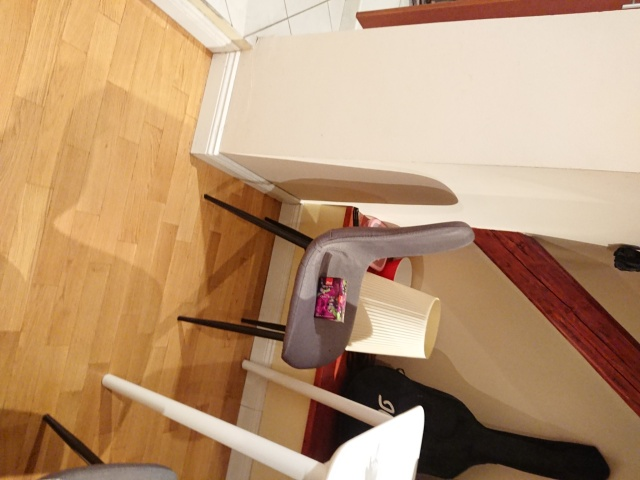Franck Black Currant Tea 60g: (312, 274, 349, 324)
